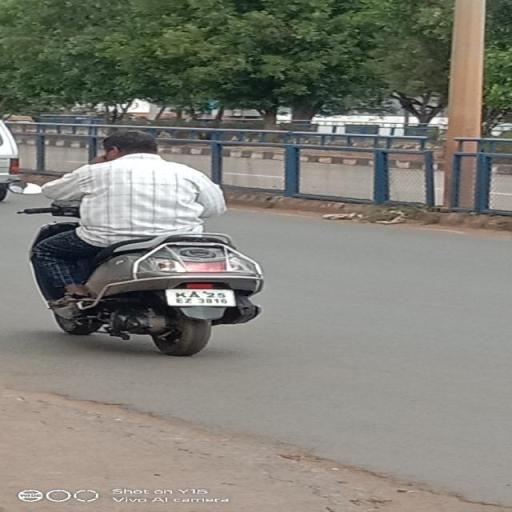bike: (7, 128, 265, 358)
numberplate: (165, 289, 237, 307)
withouthelmet: (104, 132, 158, 156)
